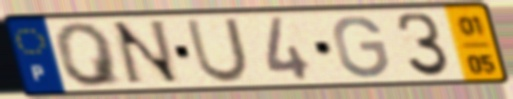3: (394, 11, 454, 80)
4: (263, 14, 314, 84)
G: (330, 13, 392, 80)
N: (108, 18, 186, 88)
Q: (51, 20, 127, 89)
U: (183, 15, 253, 85)
